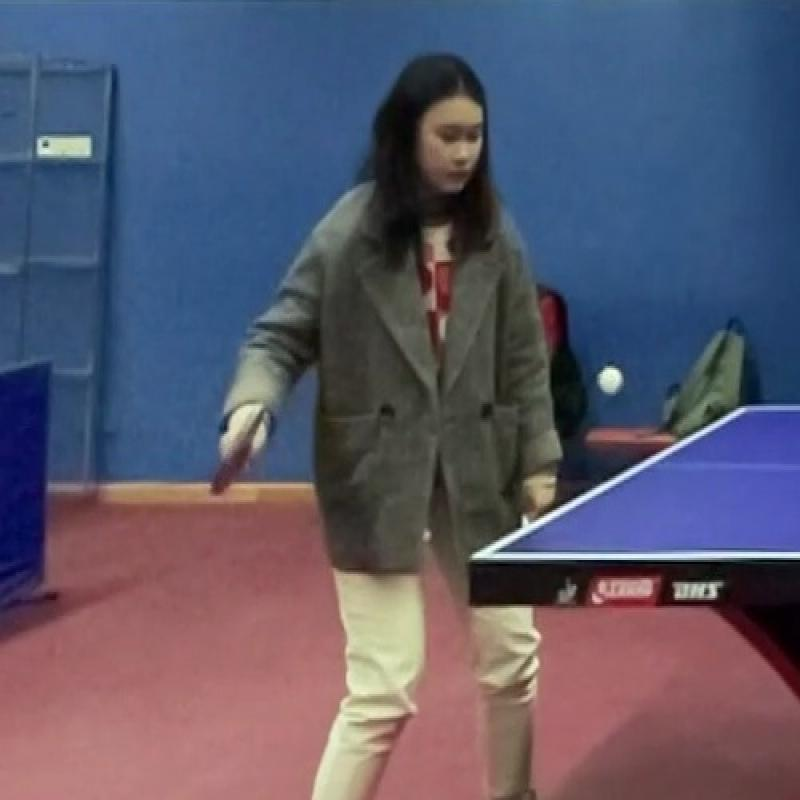bats: (190, 396, 282, 502)
